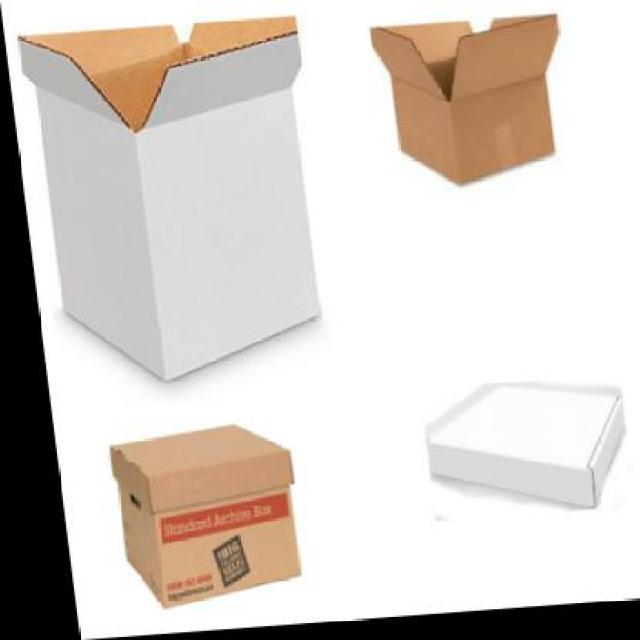box: (29, 20, 318, 387), (97, 423, 293, 612), (384, 23, 554, 194), (412, 382, 616, 520)
